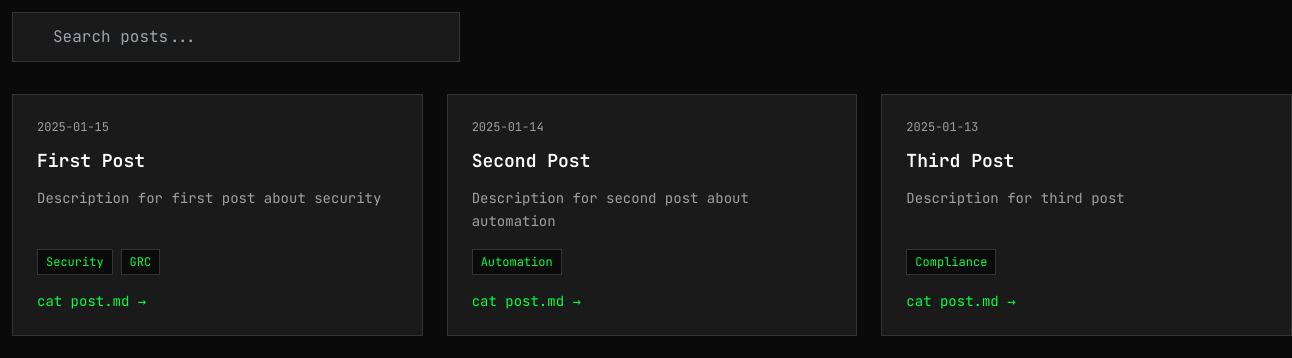
Test case: BlogList Component › should filter posts by tags
This screenshot has width=1292, height=358.
Type "GRC" into the field with placeholder "Search posts..." at (236, 37), box [12, 12, 460, 62]
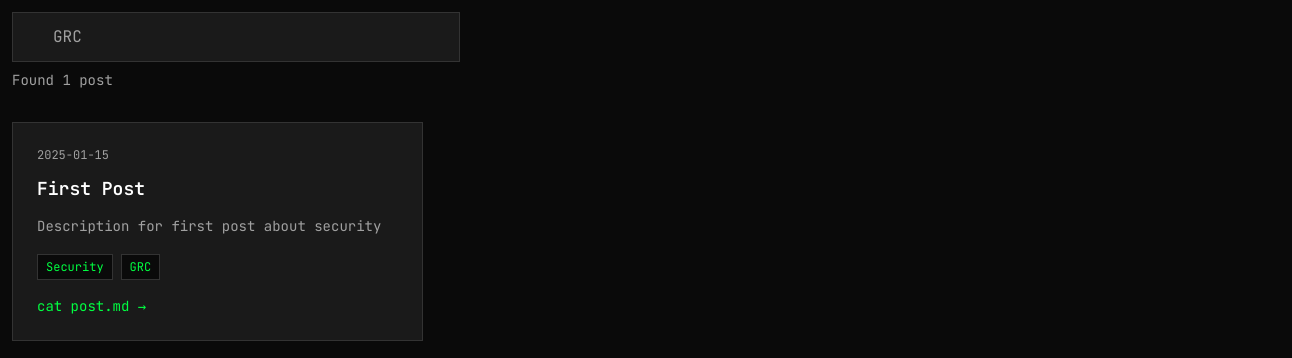
expect the heading "First Post" is shown: met, box [37, 177, 145, 200]
expect the link "Second Post" is gone: met
